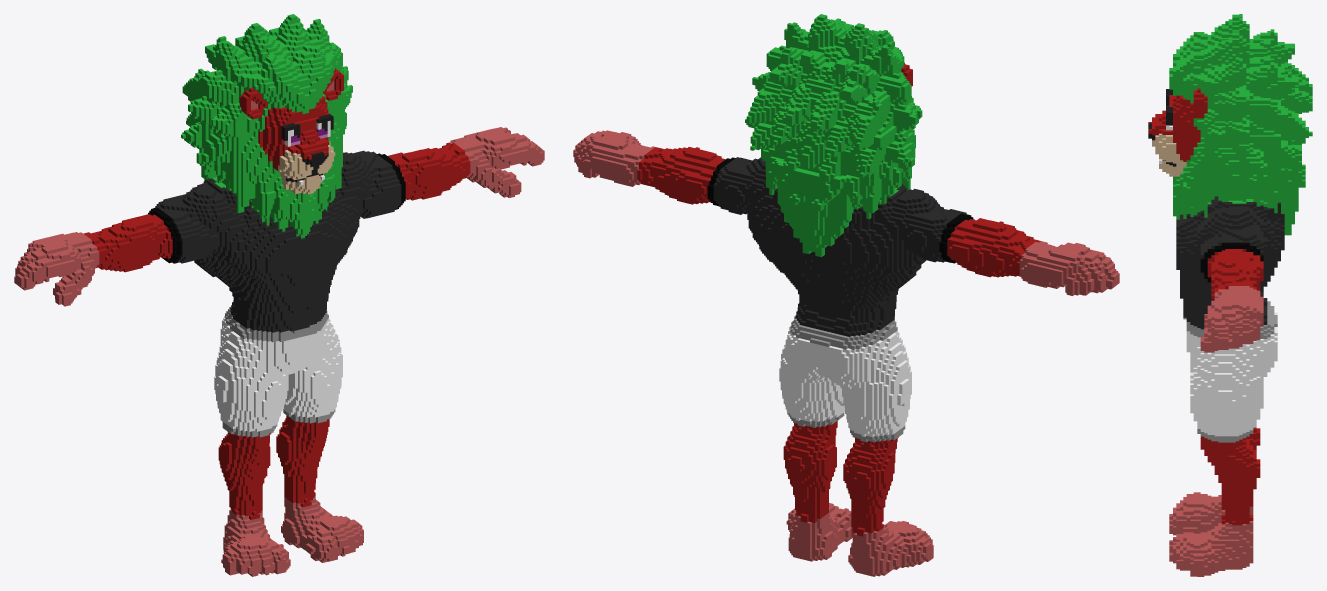
File: 103-SuT6C1QZ.fbx
3 renders of one model, left to right at view 1: azimuth 30°, elevation 25°; view 2: azimuth 150°, elevation 25°; view 3: azimuth 270°, elevation 25°, orthographic. The views are drawn at different scales.
Parts seen in each view (by area): view 1: standard; view 2: standard; view 3: standard.
Boxes of the visible parts, box(x1,y1,x2,y2) form: standard: box(14, 14, 544, 576); standard: box(573, 14, 1119, 576); standard: box(1148, 14, 1312, 576).
Bounding box in the file's own units: 17.2 × 16.5 × 4.7.
Materials: 5 (5 with a texture image).
